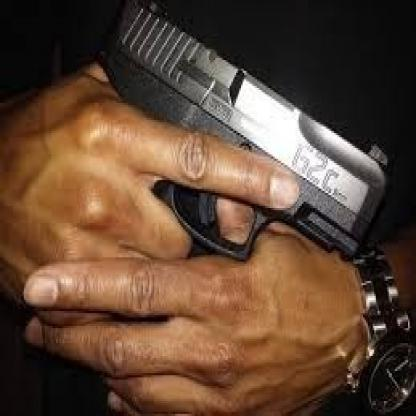Pistol: (82, 0, 394, 330)
